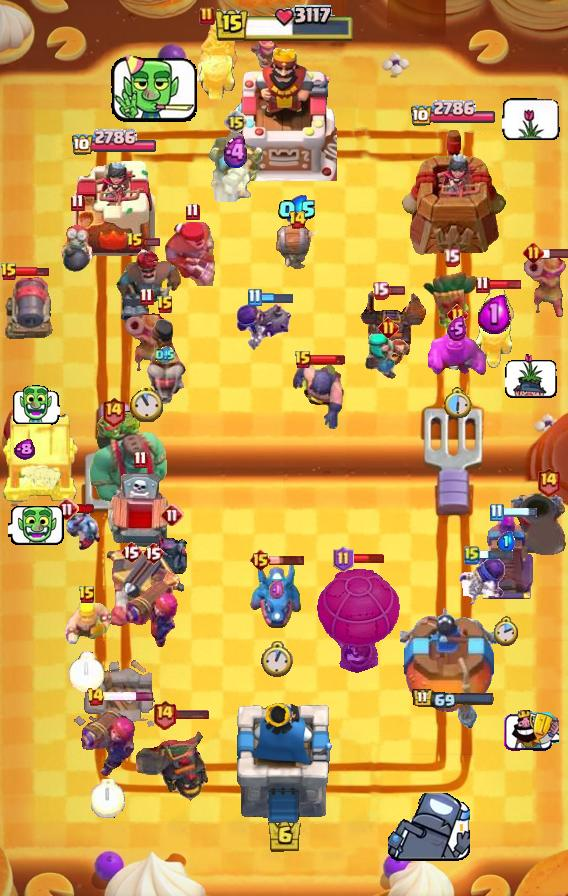archer: (250, 32, 288, 76)
bar: (102, 691, 155, 702), (478, 548, 515, 561), (14, 265, 50, 278), (259, 291, 294, 304), (269, 554, 306, 566), (501, 506, 538, 518), (174, 708, 210, 720), (310, 354, 346, 366), (487, 279, 522, 290), (351, 553, 385, 564), (541, 247, 568, 259), (77, 503, 96, 515), (387, 285, 406, 296), (142, 237, 161, 247)
bar-level: (152, 699, 177, 730), (536, 466, 561, 497), (101, 396, 126, 427), (160, 503, 184, 527), (55, 497, 79, 521), (224, 110, 248, 134), (249, 548, 272, 572), (333, 546, 354, 572), (142, 541, 164, 565), (120, 540, 142, 564), (378, 317, 399, 338), (447, 304, 468, 325), (523, 242, 544, 263), (86, 687, 105, 707), (288, 210, 307, 230), (78, 585, 96, 605), (294, 350, 312, 370), (156, 295, 174, 315), (0, 262, 18, 282), (126, 232, 144, 252), (372, 281, 389, 300), (443, 248, 460, 267), (464, 545, 480, 565), (199, 6, 215, 26), (489, 503, 504, 522), (133, 450, 148, 469), (247, 288, 262, 307), (139, 287, 154, 306), (475, 275, 490, 294), (185, 202, 200, 221), (70, 193, 85, 212)
barbarian: (60, 603, 114, 649)
bomber: (59, 216, 95, 274)
bomber-evolution: (234, 294, 294, 352), (456, 556, 508, 610)
clock: (69, 651, 105, 692), (91, 779, 125, 818), (130, 386, 163, 422), (261, 641, 293, 678), (442, 387, 472, 419), (494, 616, 519, 647)
dart-goblin: (421, 269, 481, 345)
electro-dragon: (249, 556, 305, 630)
elixir: (478, 293, 511, 334), (278, 195, 317, 225), (221, 136, 252, 169), (447, 316, 467, 341), (14, 439, 35, 460), (497, 531, 515, 552), (269, 579, 286, 601), (155, 346, 175, 364)
elixir-golem-mid: (428, 330, 486, 376)
emote: (108, 48, 198, 126), (388, 793, 470, 864), (505, 352, 558, 399), (8, 504, 65, 547), (502, 98, 560, 140), (503, 709, 559, 752), (12, 385, 60, 425)
executioner: (291, 361, 345, 431)
firecracker-evolution: (123, 569, 183, 649), (79, 701, 137, 779)
hunter: (114, 246, 184, 324), (163, 222, 221, 286)
king-tower: (231, 45, 337, 181), (235, 703, 333, 826)
king-tower-bar: (213, 5, 355, 45)
mini-pekka: (156, 532, 189, 579)
minion: (63, 507, 103, 551)
mortar: (506, 490, 568, 558)
musketeer: (125, 307, 167, 377), (524, 249, 566, 319)
queen-tower: (398, 128, 508, 256), (400, 603, 506, 731), (73, 156, 155, 256)
ram-rider: (195, 17, 241, 101), (143, 318, 187, 404), (473, 287, 515, 369)
rascal-girl: (364, 333, 412, 381)
tower-bar: (71, 129, 158, 157), (410, 100, 497, 128), (412, 688, 495, 710)
wall-breaker: (271, 224, 323, 270)
